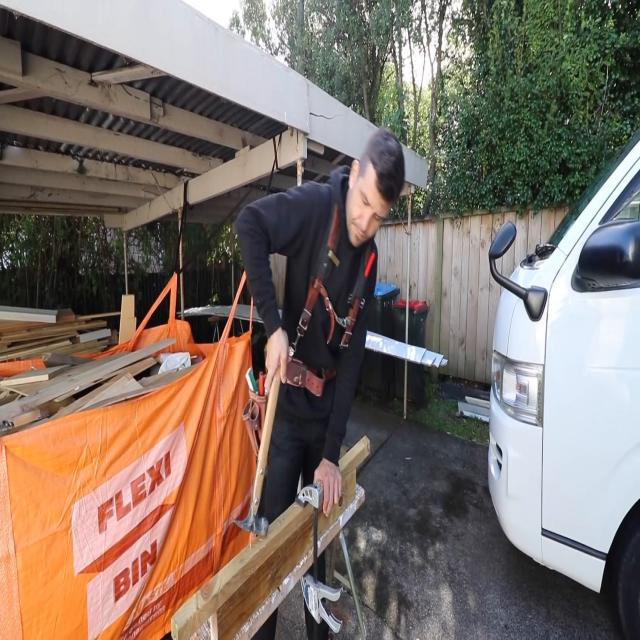hammer: (231, 366, 281, 537)
